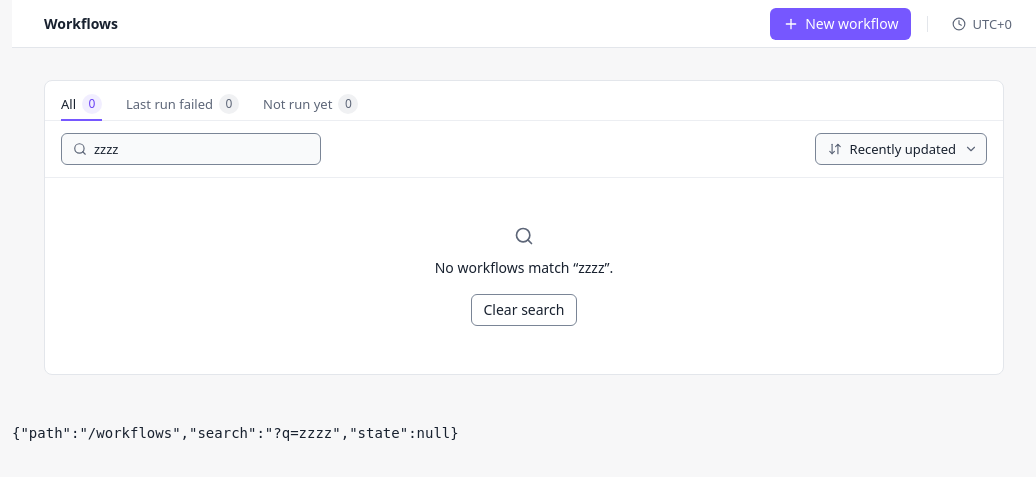
Test: WorkflowsPage tabs, search and sort › says when nothing matches and clears the search
The width and height of the screenshot is (1036, 477).
Check: the text "No workflows match “zzzz”." is shown, box [435,258,613,278]
Click the button "Clear search".
click(524, 310)  # box [470,294,578,326]
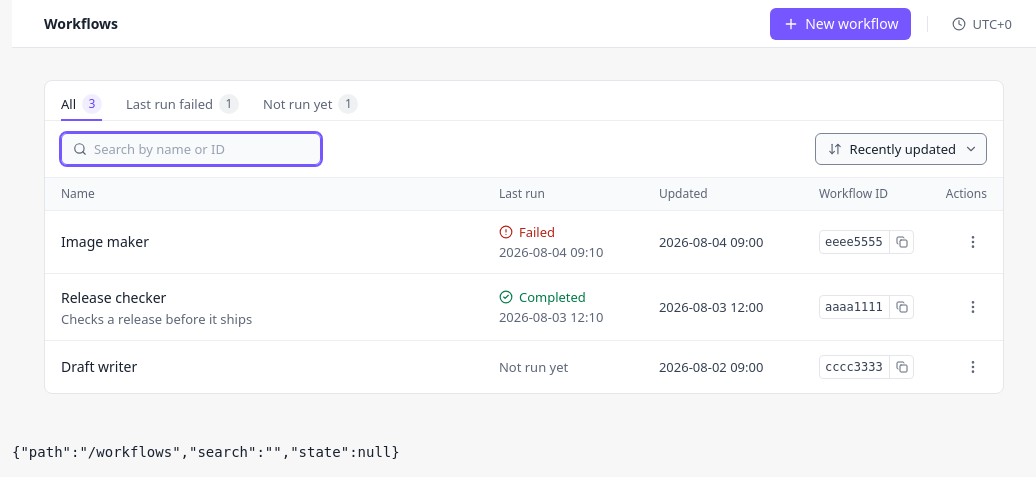
Check: the search field is empty, box [61,133,321,165]
